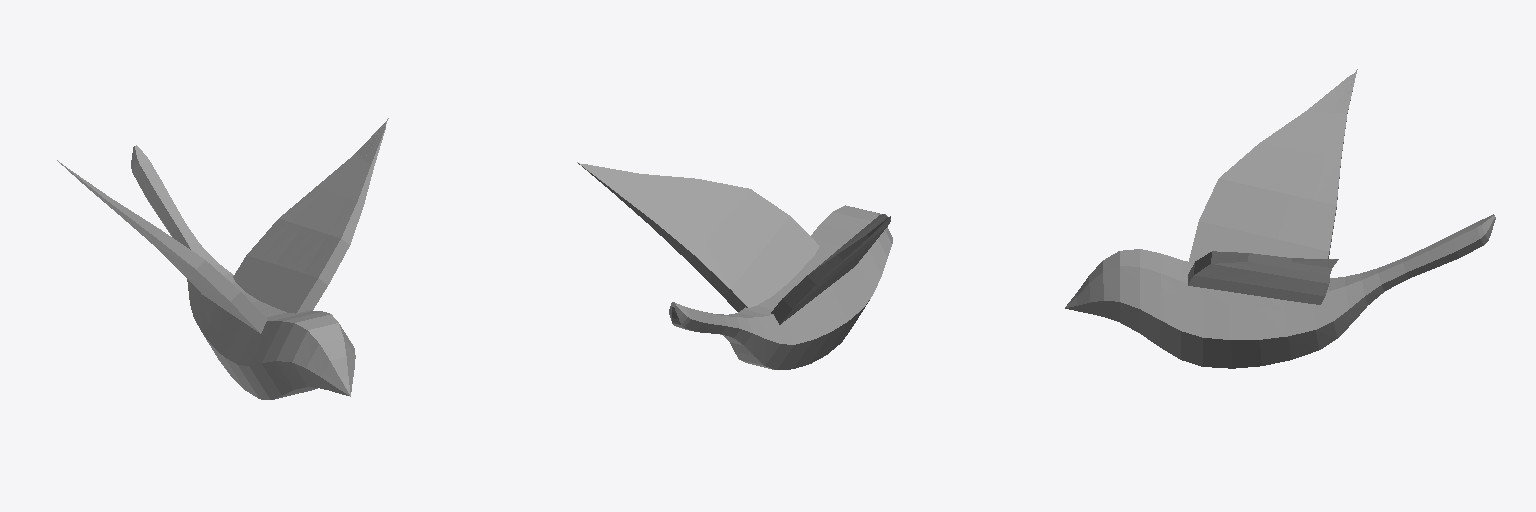
The model's file is bird.obj.
3 views of the same model, side by side, from view 1: azimuth 30°, elevation 25°; view 2: azimuth 150°, elevation 25°; view 3: azimuth 270°, elevation 25° (orthographic).
Parts seen in each view (by area): view 1: Null_1_Loft_NURBS, Null_1_Cube_1_Cube_11, Null_1_Cube_Cube1; view 2: Null_1_Cube_1_Cube_11, Null_1_Loft_NURBS, Null_1_Cube_Cube1; view 3: Null_1_Loft_NURBS, Null_1_Cube_Cube1, Null_1_Cube_1_Cube_11.
Boxes of the visible parts, <box> form: Null_1_Loft_NURBS: <box>131,145,355,399</box>; Null_1_Cube_1_Cube_11: <box>233,118,388,313</box>; Null_1_Cube_Cube1: <box>57,160,267,333</box>; Null_1_Cube_1_Cube_11: <box>577,162,819,311</box>; Null_1_Loft_NURBS: <box>669,205,892,369</box>; Null_1_Cube_Cube1: <box>771,214,890,324</box>; Null_1_Loft_NURBS: <box>1065,214,1495,368</box>; Null_1_Cube_Cube1: <box>1189,69,1357,263</box>; Null_1_Cube_1_Cube_11: <box>1188,251,1338,304</box>.
Size of the model in its own units: 0.3696 by 0.2363 by 0.4257.